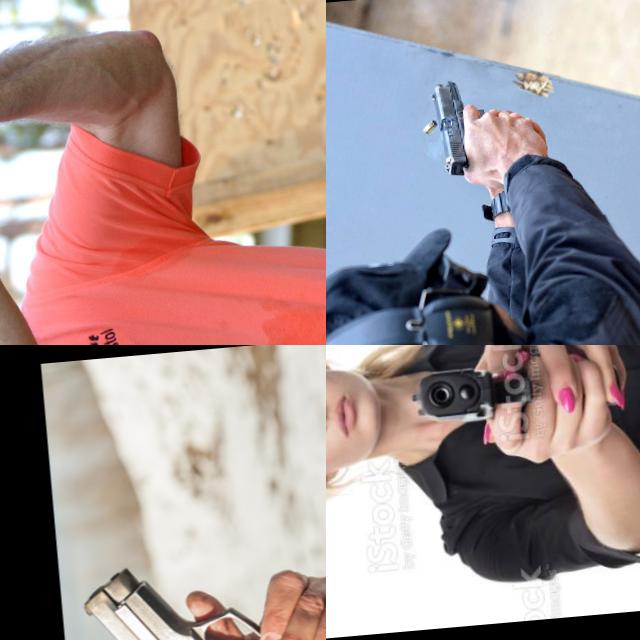handgun: (76, 535, 326, 640), (406, 348, 629, 432), (0, 0, 54, 152), (430, 74, 506, 180)
